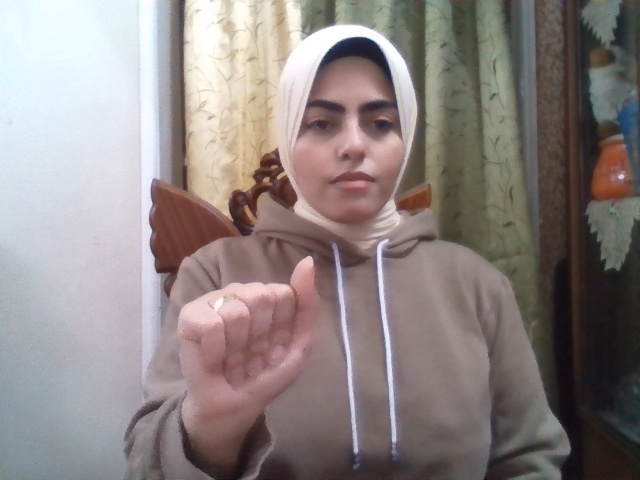A: (177, 256, 322, 429)
